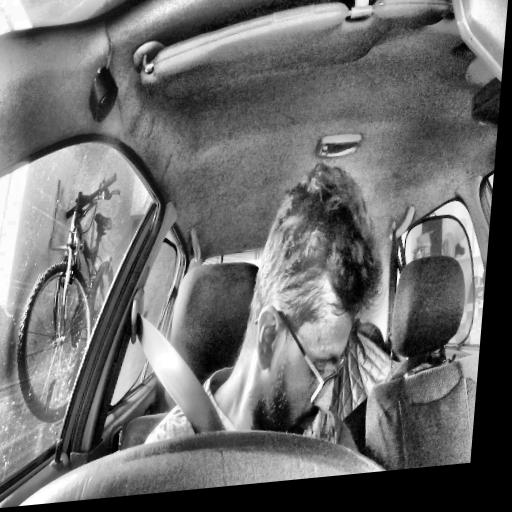drowsy: (233, 154, 395, 466)
